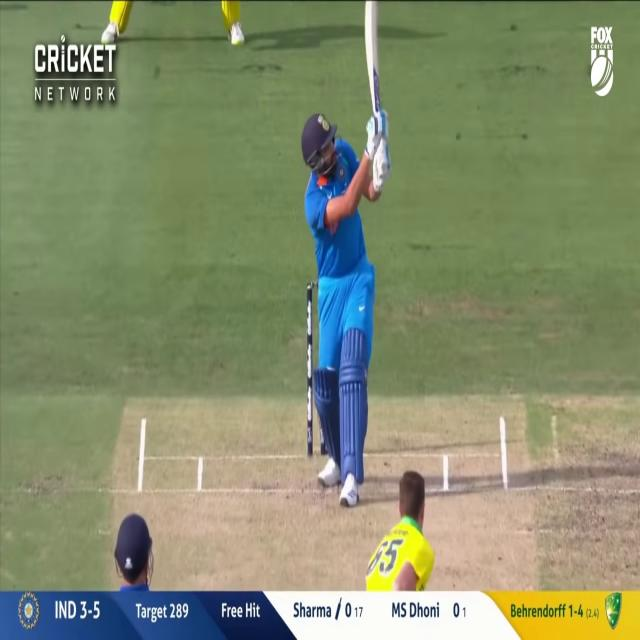stump: (306, 283, 327, 457)
